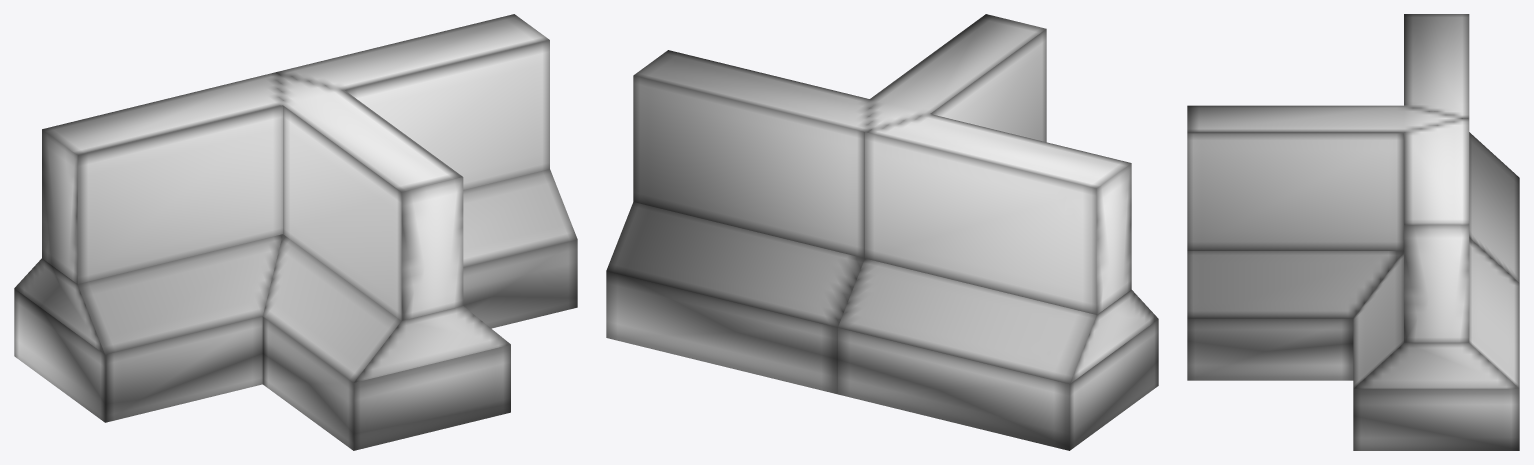
The model's file is Concrete-Barrier-03.fbx.
The picture shows the model from 3 angles, left to right: view 1: azimuth 30°, elevation 25°; view 2: azimuth 150°, elevation 25°; view 3: azimuth 270°, elevation 25°; orthographic projection. The views are drawn at different scales.
Visible parts, largest first — view 1: Concrete-Barrier-03; view 2: Concrete-Barrier-03; view 3: Concrete-Barrier-03.
Boxes of the visible parts, x1,y1,x2,y2 form: Concrete-Barrier-03: (14,14,577,450); Concrete-Barrier-03: (606,14,1158,450); Concrete-Barrier-03: (1187,14,1519,450).
Bounding box in the file's own units: 1 × 0.5 × 0.6667.
